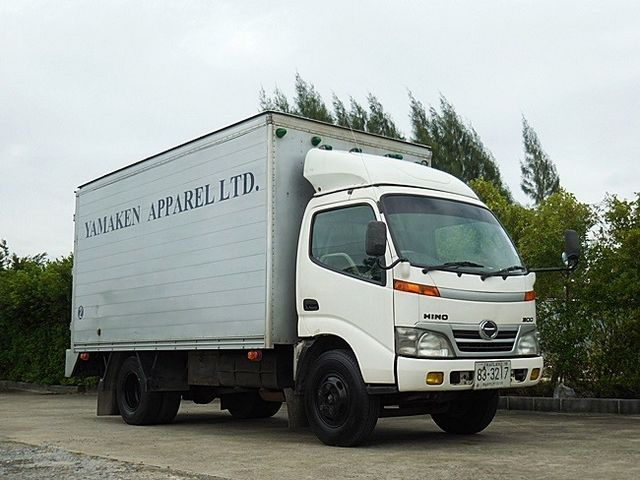truck: (62, 110, 545, 445)
